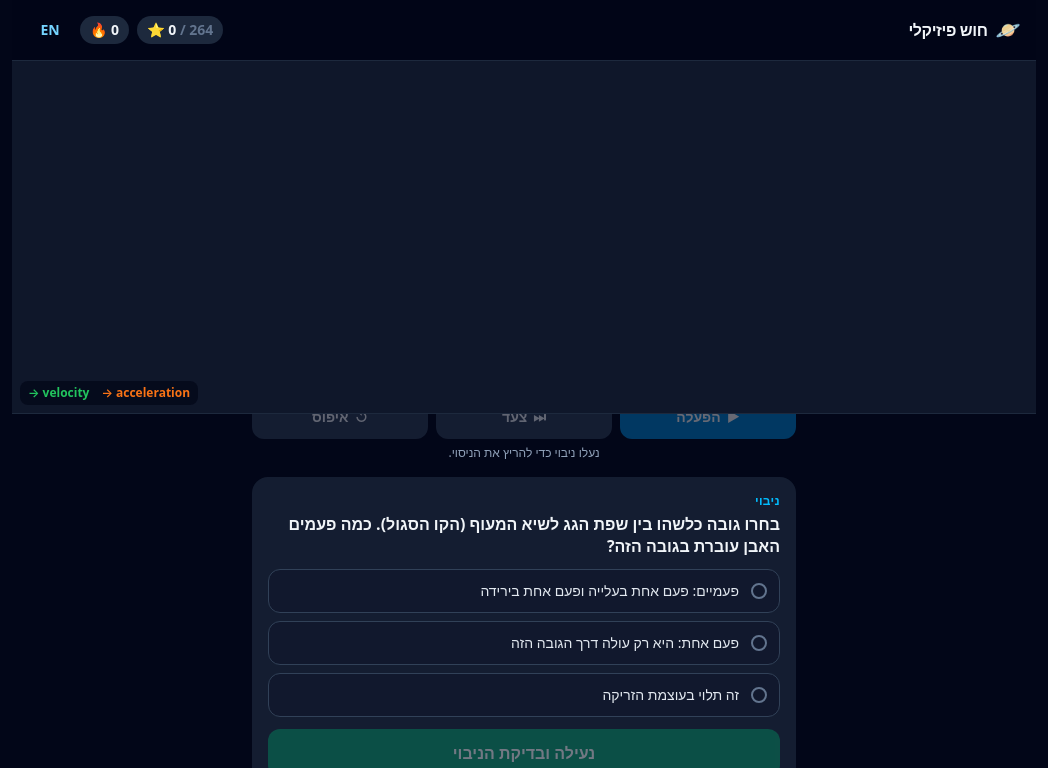
Test: QuestionScreen in Hebrew (default locale) › runs the full prediction loop in Hebrew
(page scrolled)
Click the radio button labelled "פעמיים: פעם אחת בעלייה ופעם אחת בירידה".
click(524, 591)  # box x1=268 y1=569 x2=780 y2=613
(page scrolled)
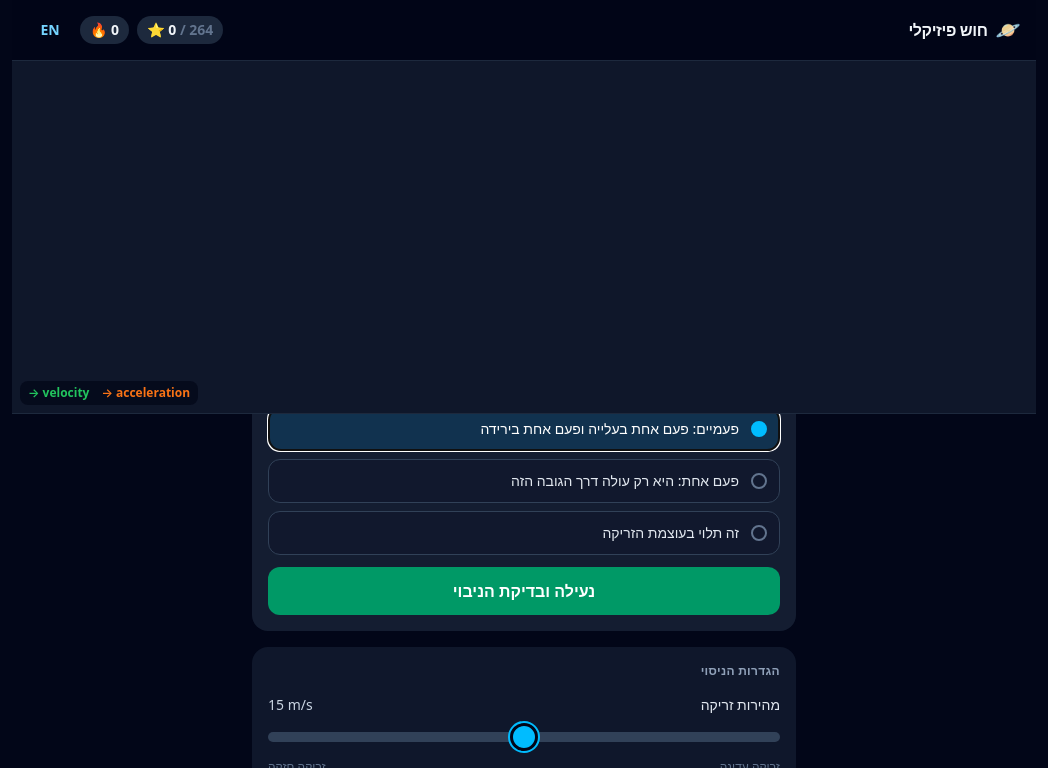
Click the button "נעילה ובדיקת הניבוי".
click(524, 591)  # box x1=268 y1=567 x2=780 y2=615
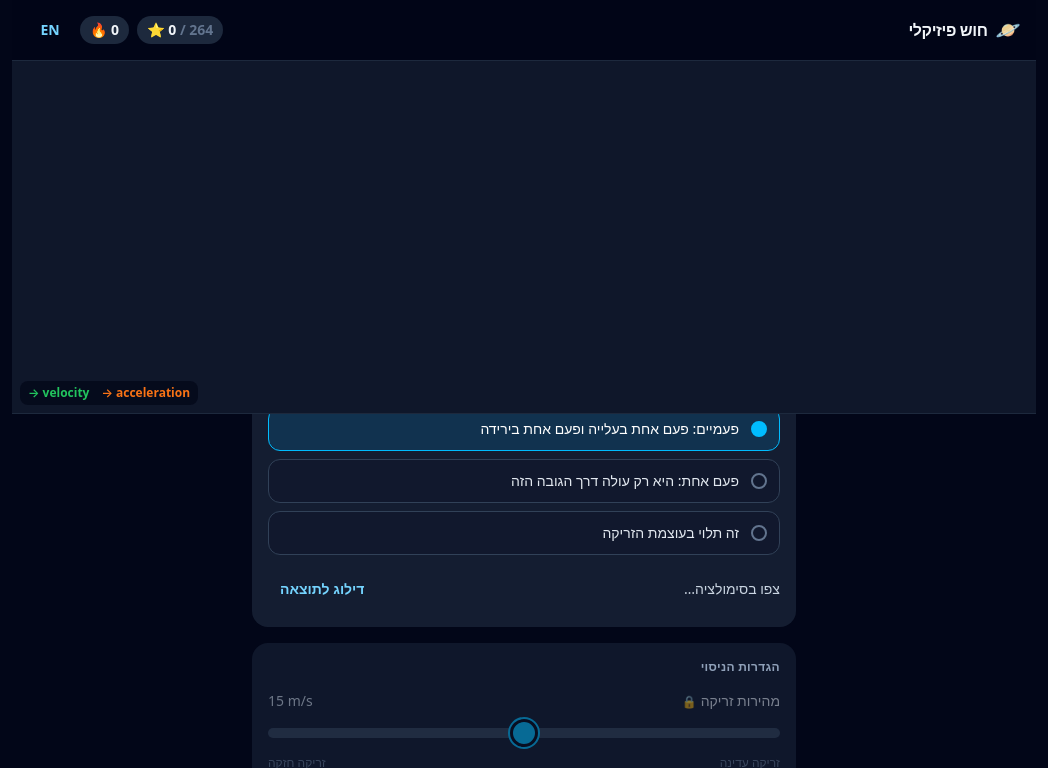
Click the button "דילוג לתוצאה".
click(322, 589)  # box x1=268 y1=567 x2=376 y2=611
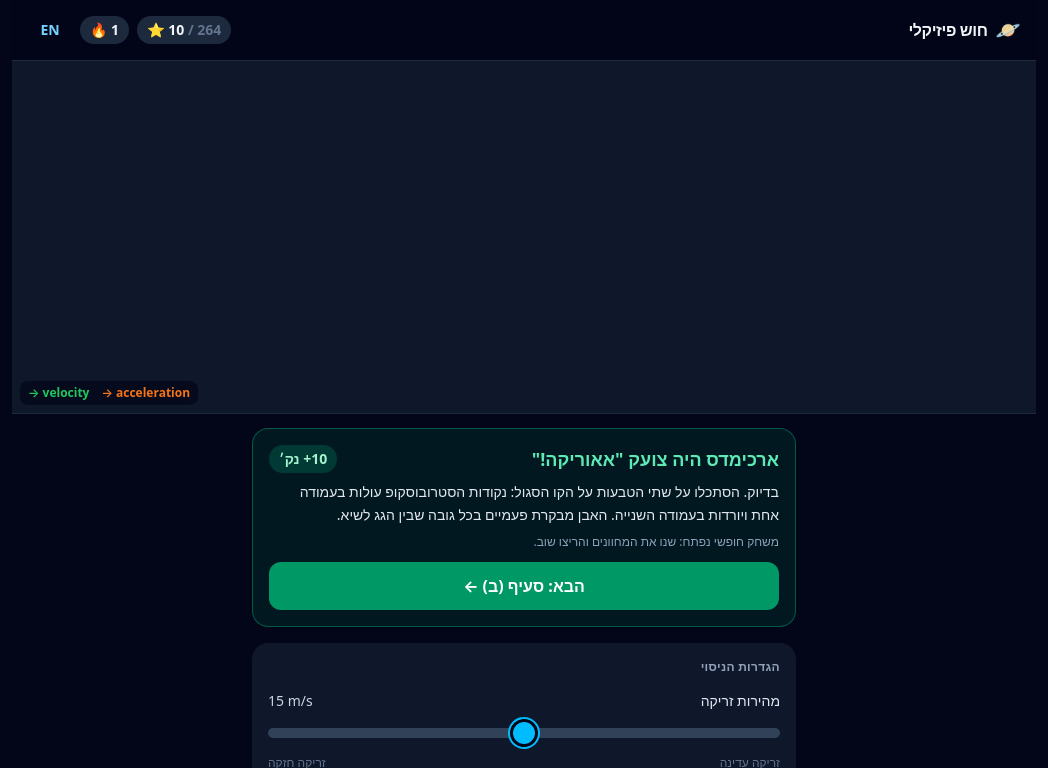
Check: the text "+10 נק׳" is shown, box x1=279 y1=449 x2=327 y2=468
Check: the text "שתי הטבעות על הקו הסגול" is shown, box x1=300 y1=482 x2=779 y2=524
Check: the text with test id "total-score" reads "10", box x1=168 y1=20 x2=184 y2=39
Click the button "הבא: סעיף (ב) ←".
click(524, 586)  # box x1=269 y1=562 x2=779 y2=610
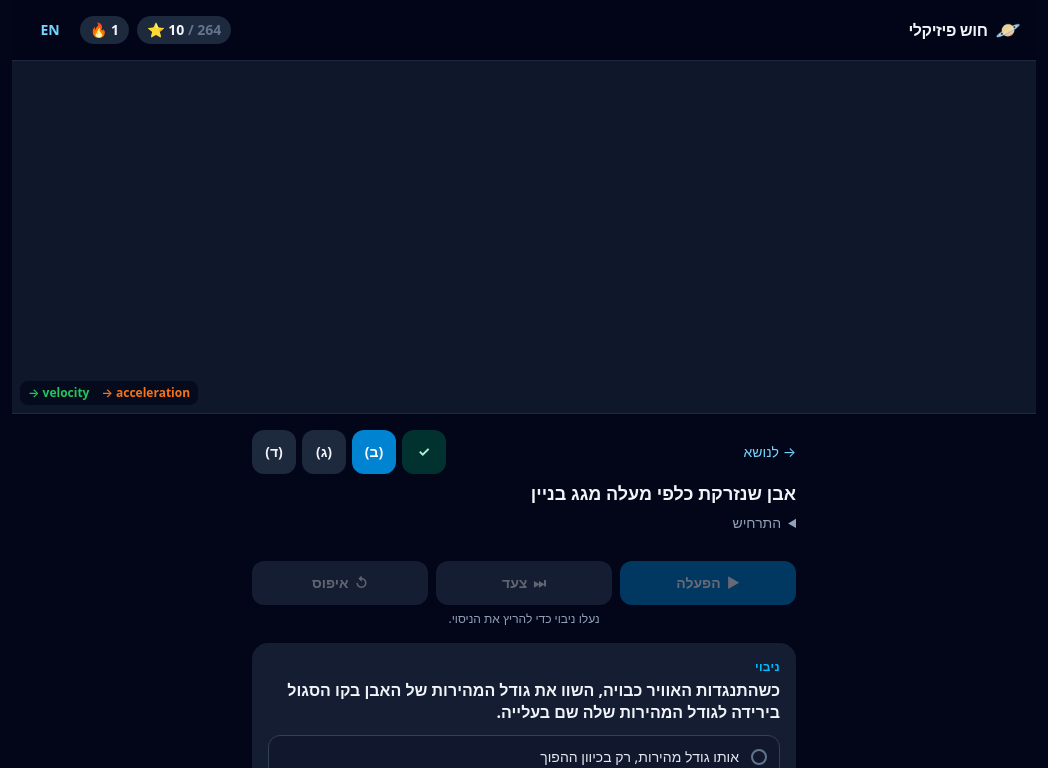
Check: the heading "השוו את גודל המהירות" is shown, box x1=287 y1=679 x2=780 y2=723
